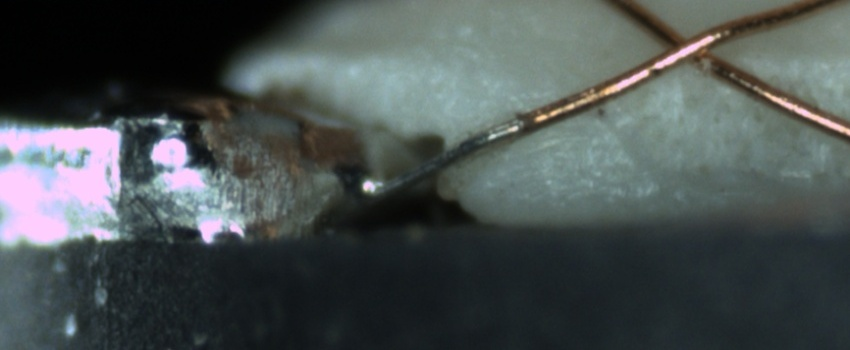CL: (640, 14, 740, 79)
TS: (374, 111, 526, 199)
TTCW: (353, 99, 585, 197)
